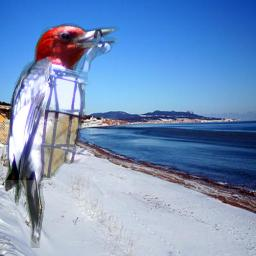Woodpecker: (5, 23, 121, 248)
